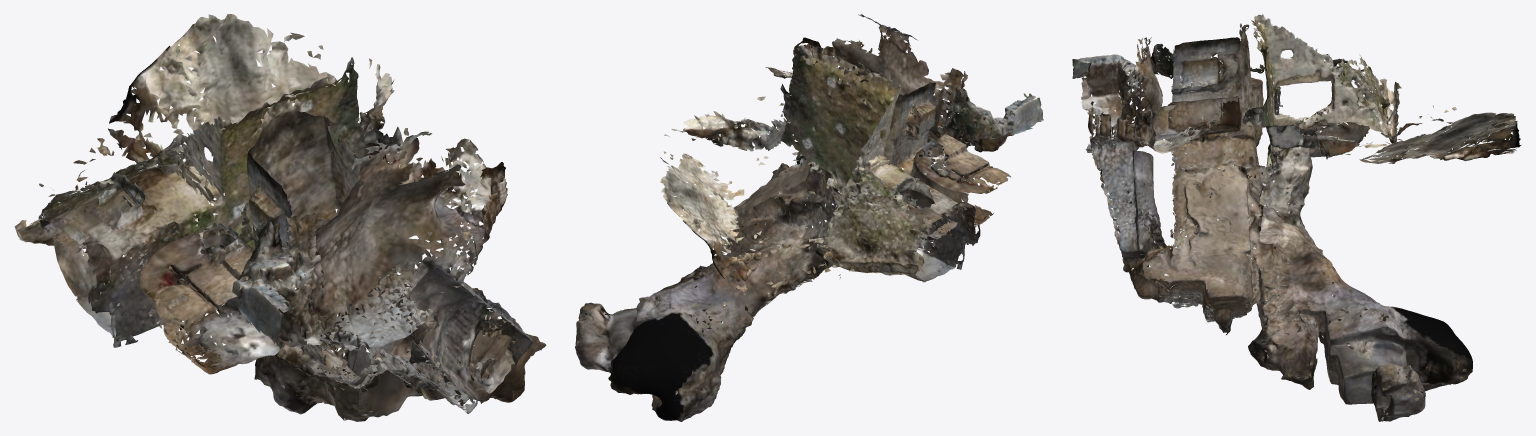
3 renders of one model, left to right at view 1: azimuth 30°, elevation 25°; view 2: azimuth 150°, elevation 25°; view 3: azimuth 270°, elevation 25°, orthographic. The views are drawn at different scales.
Bounding box in the file's own units: 11.5 × 10.34 × 12.81.
1 material, 1 textured.
